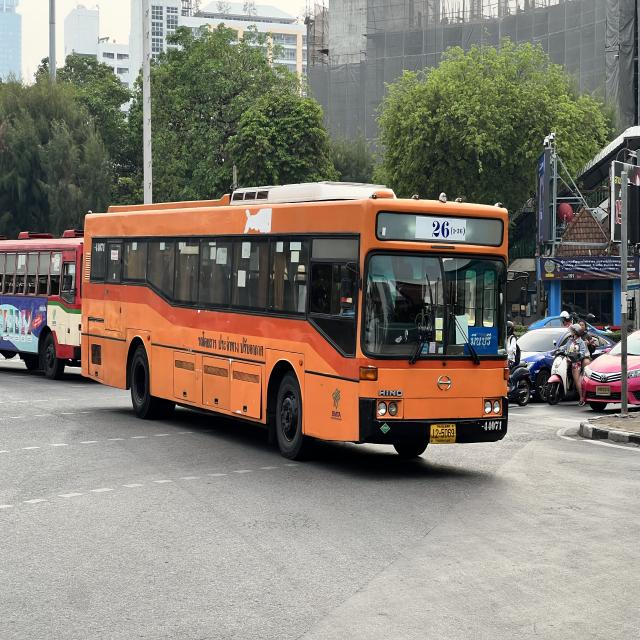BMTA-bus: (79, 175, 511, 473)
Bus-Line-Number: (415, 216, 465, 242)
Destination-Sign-Normal: (459, 326, 497, 355)
